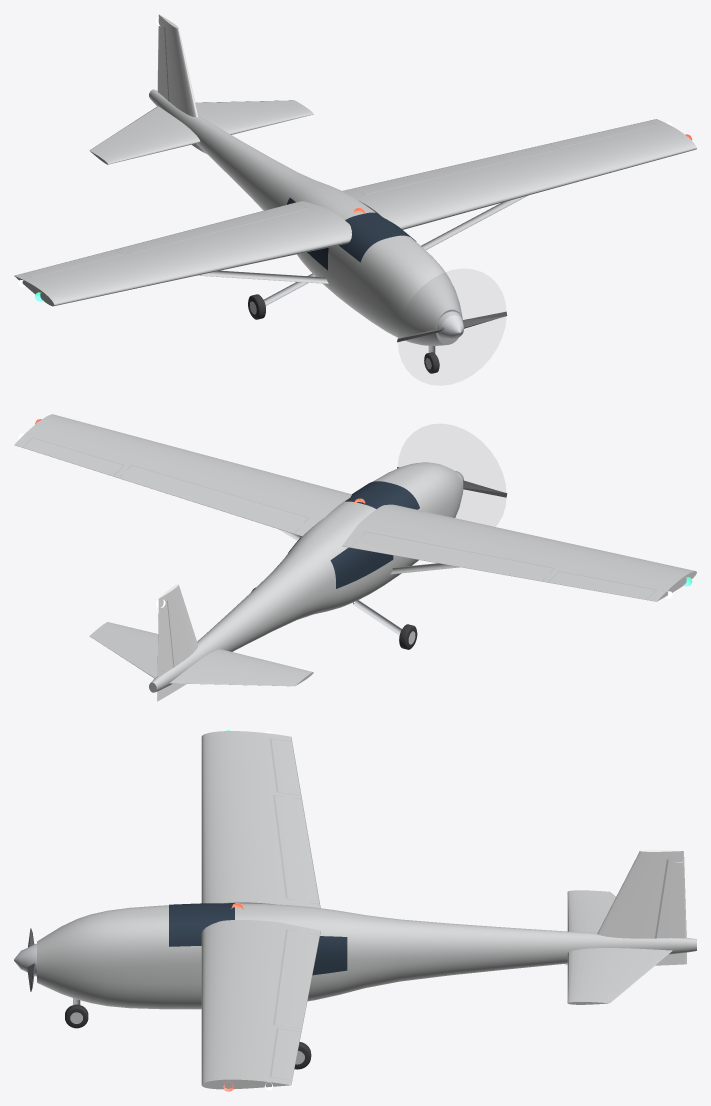
3 views of the same model, one above another, from view 1: azimuth 30°, elevation 25°; view 2: azimuth 150°, elevation 25°; view 3: azimuth 270°, elevation 25° (orthographic). The views are drawn at different scales.
Visible parts, largest first — view 1: airframe; view 2: airframe; view 3: airframe.
Part boxes in pixels (bbox=[...]): airframe: bbox=[14, 14, 696, 373]; airframe: bbox=[14, 414, 696, 701]; airframe: bbox=[14, 730, 696, 1091].
Size of the model in its own units: 11.22 by 2.59 by 9.11.
